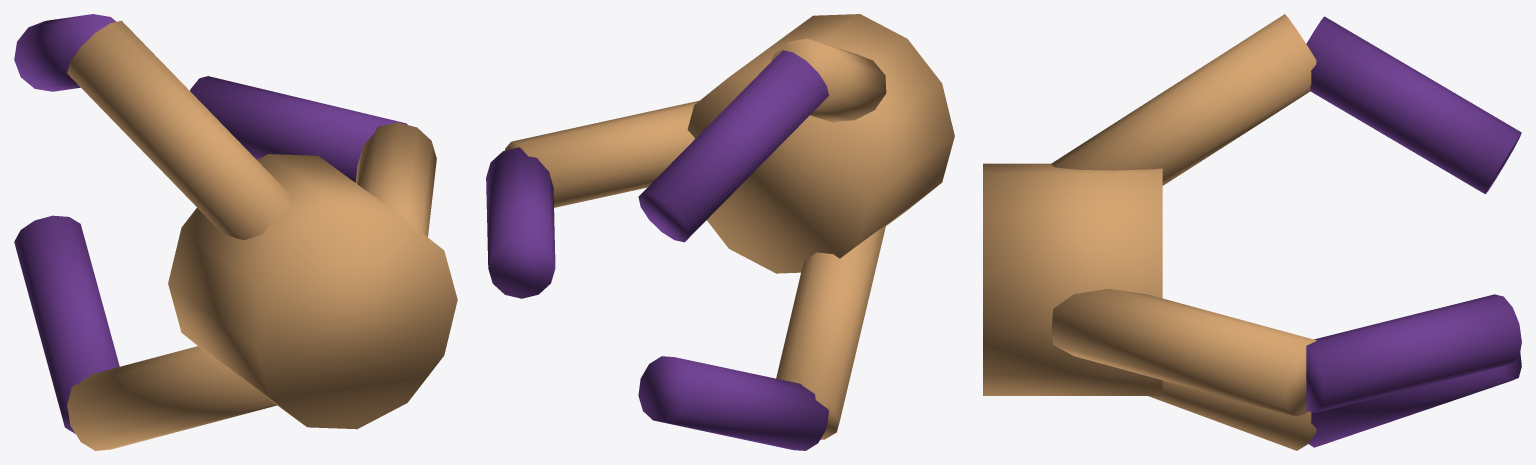
The model's file is tool_grapple.glb.
3 views of the same model, side by side, from view 1: azimuth 30°, elevation 25°; view 2: azimuth 150°, elevation 25°; view 3: azimuth 270°, elevation 25° (orthographic). The views are drawn at different scales.
Visible parts, largest first — view 1: grapple_attachment; view 2: grapple_attachment; view 3: grapple_attachment.
Boxes of the visible parts, box(x1,y1,x2,y2) form: grapple_attachment: box(14, 14, 457, 450); grapple_attachment: box(486, 14, 954, 450); grapple_attachment: box(983, 14, 1521, 450).
Bounding box in the file's own units: 0.2345 × 0.264 × 0.3002.
